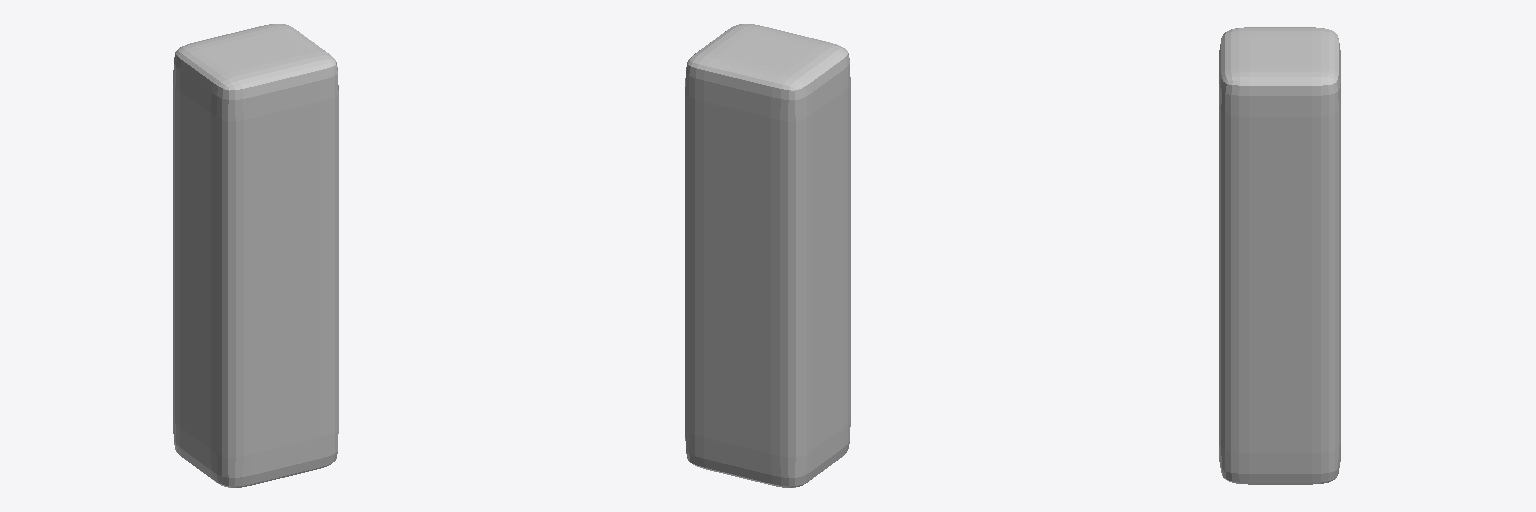
3 renders of one model, left to right at view 1: azimuth 30°, elevation 25°; view 2: azimuth 150°, elevation 25°; view 3: azimuth 270°, elevation 25°, orthographic.
Parts seen in each view (by area): view 1: polySurface4 text2FixedOneObjectNewNoHistory:pasted__T1; view 2: polySurface4 text2FixedOneObjectNewNoHistory:pasted__T1; view 3: polySurface4 text2FixedOneObjectNewNoHistory:pasted__T1.
Part boxes in pixels (left/top/right/bottom): polySurface4 text2FixedOneObjectNewNoHistory:pasted__T1: left=173, top=24, right=338, bottom=487; polySurface4 text2FixedOneObjectNewNoHistory:pasted__T1: left=685, top=24, right=850, bottom=487; polySurface4 text2FixedOneObjectNewNoHistory:pasted__T1: left=1219, top=27, right=1340, bottom=484.
Bounding box in the file's own units: 194 × 627 × 170.